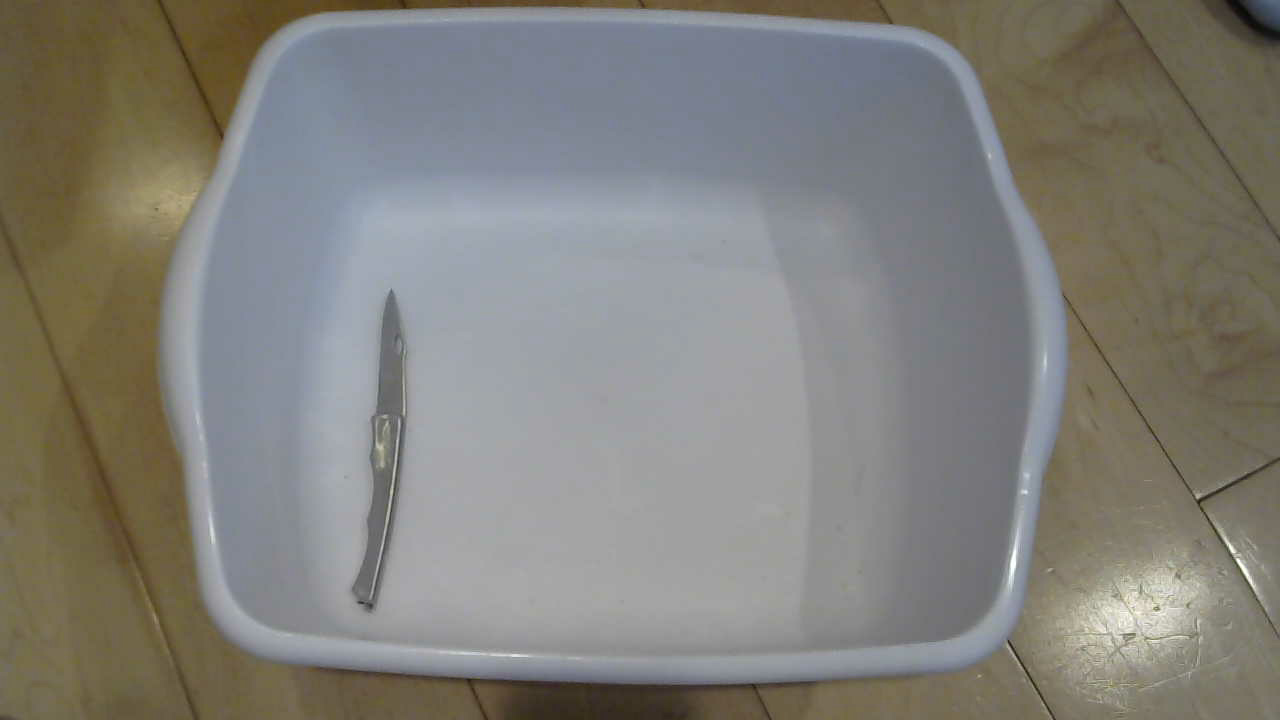knife: (317, 289, 436, 621)
